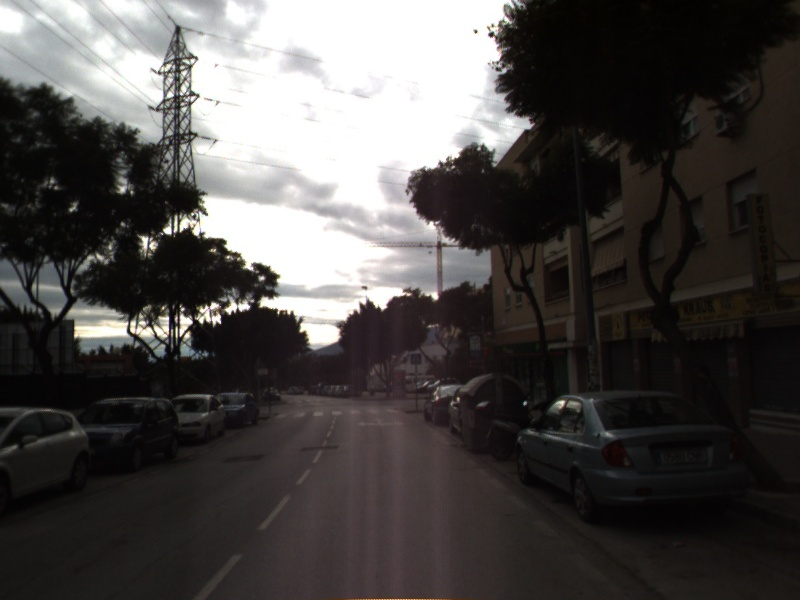STRAIGHT_LEFT_RIGHT: (355, 415, 406, 429)
